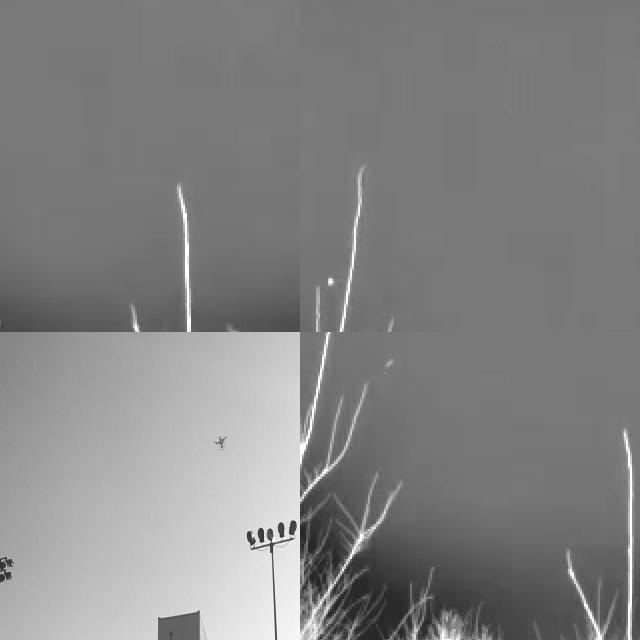0: (379, 349, 401, 379), (321, 271, 341, 293)
drone: (213, 428, 229, 456)
